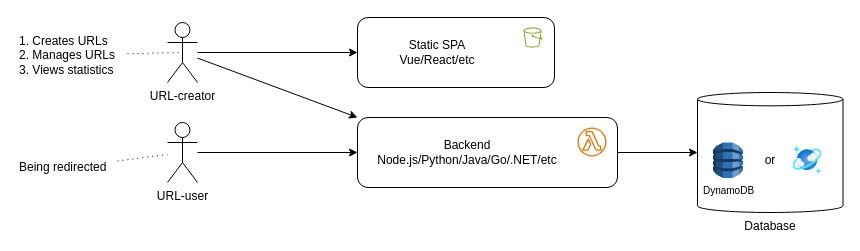
Image size: 860x251. Some labels were removed from this diagram. Each missing label, with the centre of its shape:
"Amazon S3" goes at (532,37).
"AWS Lambda" goes at (591,141).
"CosmosDB" goes at (807,159).
